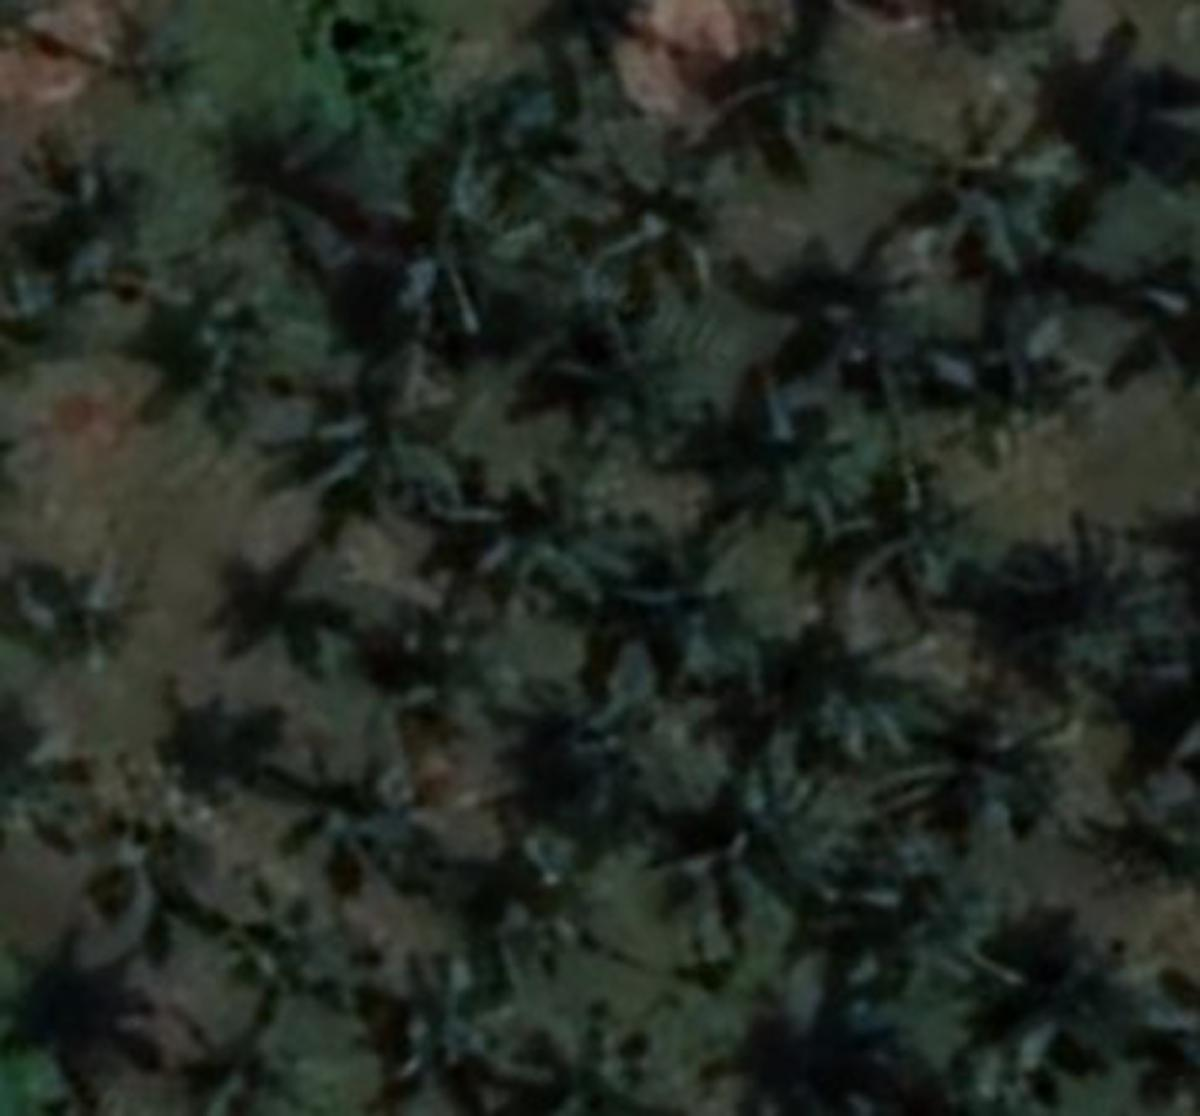coconut: (366, 151, 567, 359), (453, 457, 652, 625), (689, 375, 860, 554), (188, 867, 366, 1025), (917, 90, 1068, 262), (779, 608, 947, 759), (285, 742, 460, 884), (588, 144, 759, 289), (457, 833, 625, 978), (376, 958, 531, 1085)
